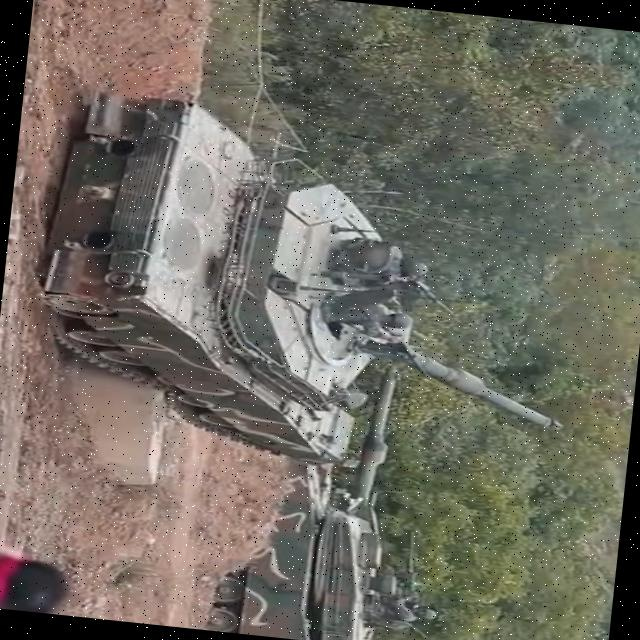korea tank: (13, 84, 595, 490)
